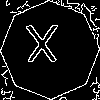X: (25, 25, 59, 71)
